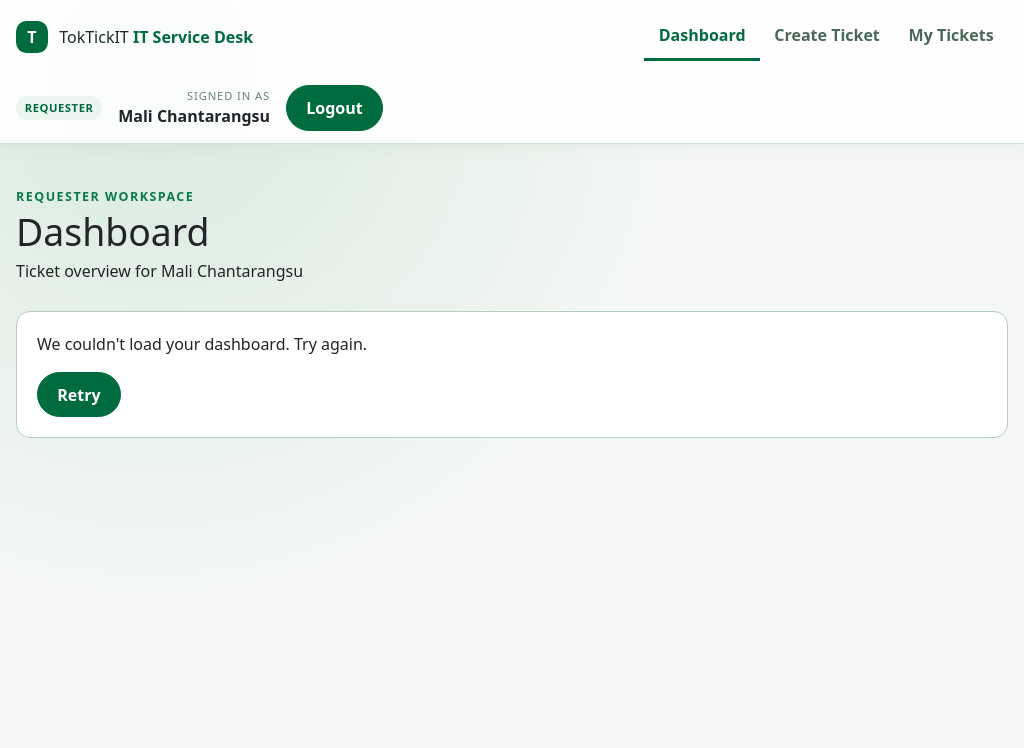
Test case: Requester Dashboard › shows a safe failure and retries without displaying server details
The image size is (1024, 748).
expect the message shows "We couldn't load your dashboard. Try again.": met, box [37,333,367,355]
Step 1. Click the button "Retry" → (79, 395), box [37,372,121,417]
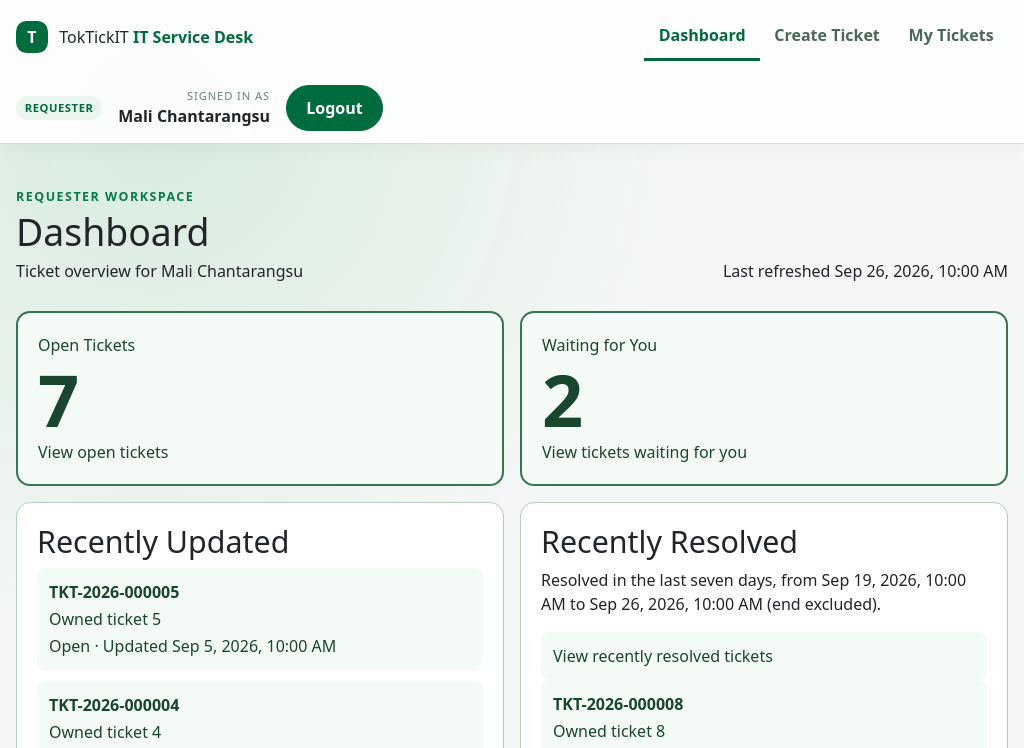
expect the text "Owned ticket 5" is shown: met, box [49,608,161,630]
